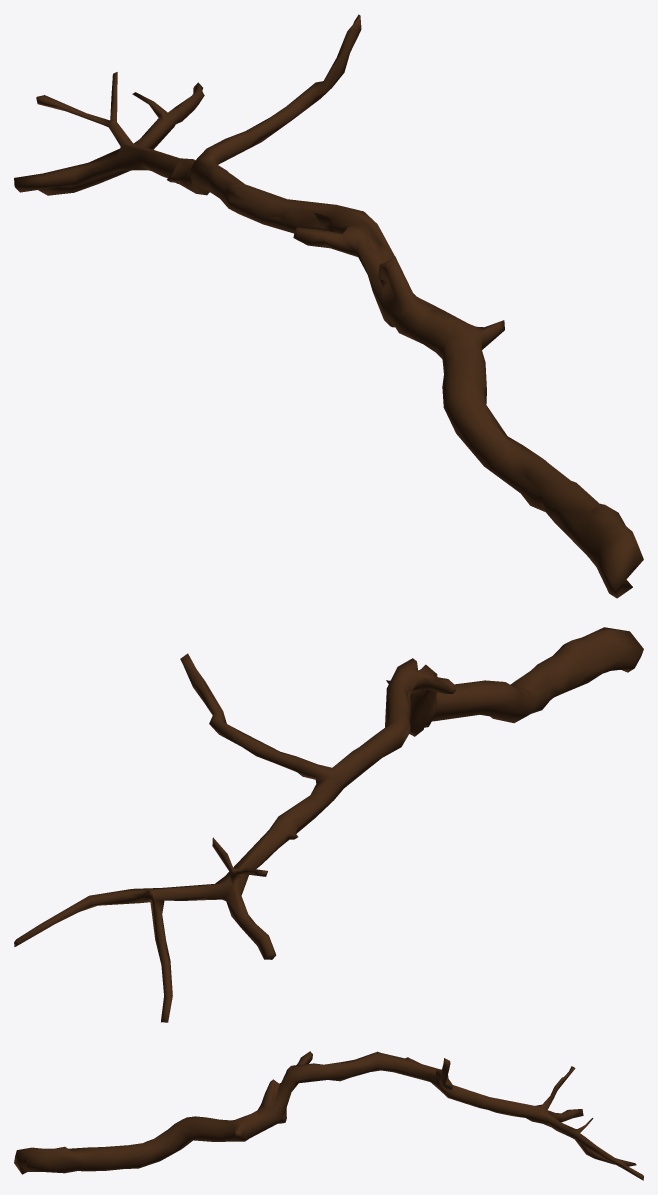
The model's file is zars2mesh.fbx.
3 renders of one model, top to bottom at view 1: azimuth 30°, elevation 25°; view 2: azimuth 150°, elevation 25°; view 3: azimuth 270°, elevation 25°, orthographic. The views are drawn at different scales.
Parts seen in each view (by area): view 1: dry_branches_medium_01_a; view 2: dry_branches_medium_01_a; view 3: dry_branches_medium_01_a.
Boxes of the visible parts, <box> form: dry_branches_medium_01_a: <box>14,14,643,598</box>; dry_branches_medium_01_a: <box>14,627,643,1022</box>; dry_branches_medium_01_a: <box>14,1051,643,1180</box>.
Size of the model in its own units: 3.46 by 3.65 by 13.89.
